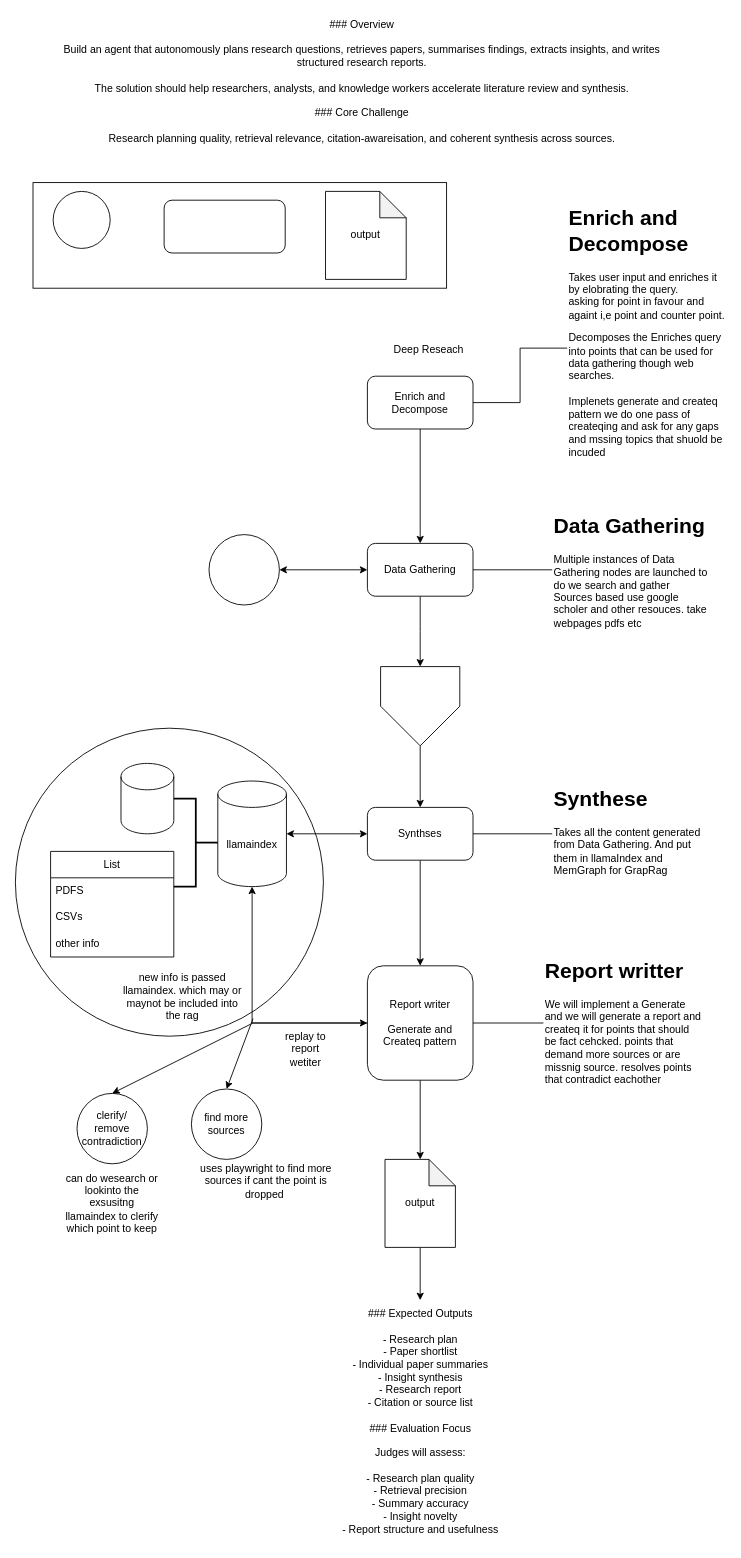
The diagram is 741 pixels wide and 1558 high, and some of its shapes have lost their labels. The centre of each missing label's shape, as x and y in pixels:
"Agents" belongs at (x=224, y=226).
"memgraph" belongs at (x=147, y=798).
"Merge all resposes" belongs at (x=420, y=706).
"Playwright" belongs at (x=243, y=569).
"Tools" belongs at (x=81, y=219).
